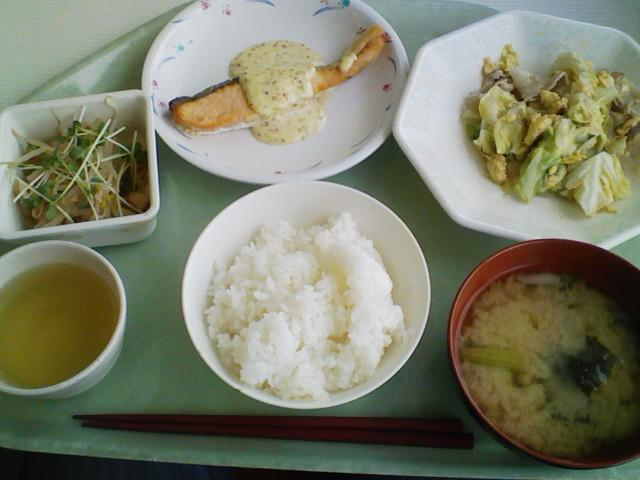plate: (394, 10, 639, 248)
rice: (204, 214, 405, 400)
